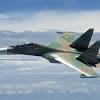maybay_muctieu: (2, 26, 100, 79)
